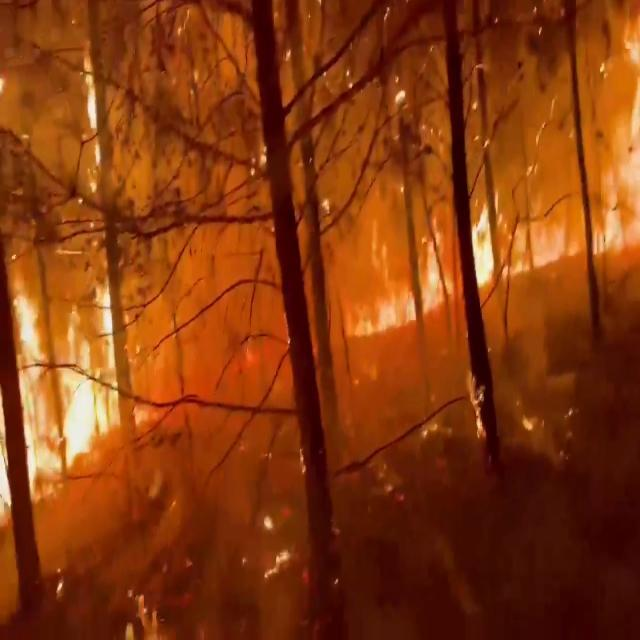Fire: (15, 262, 130, 486), (473, 172, 637, 286), (345, 190, 453, 334)
